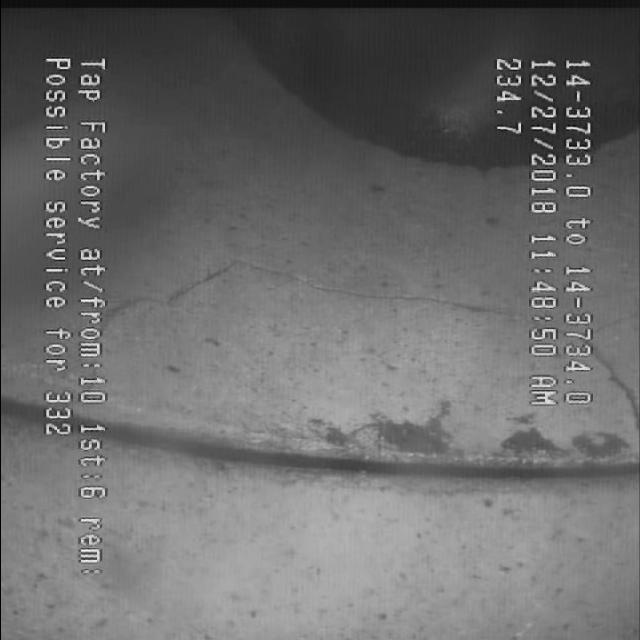Crack: (130, 254, 502, 334)
